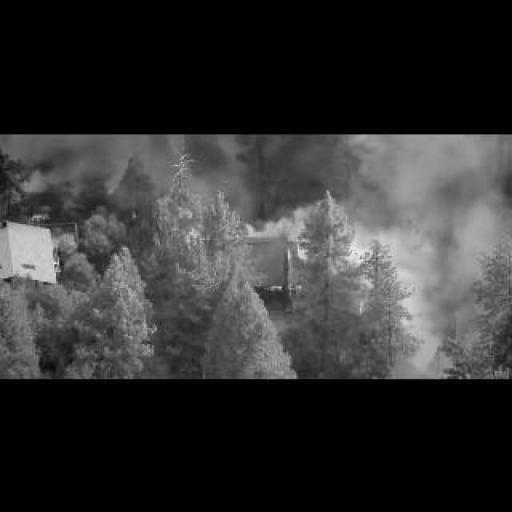smoke: (230, 200, 328, 296), (186, 226, 200, 250)
